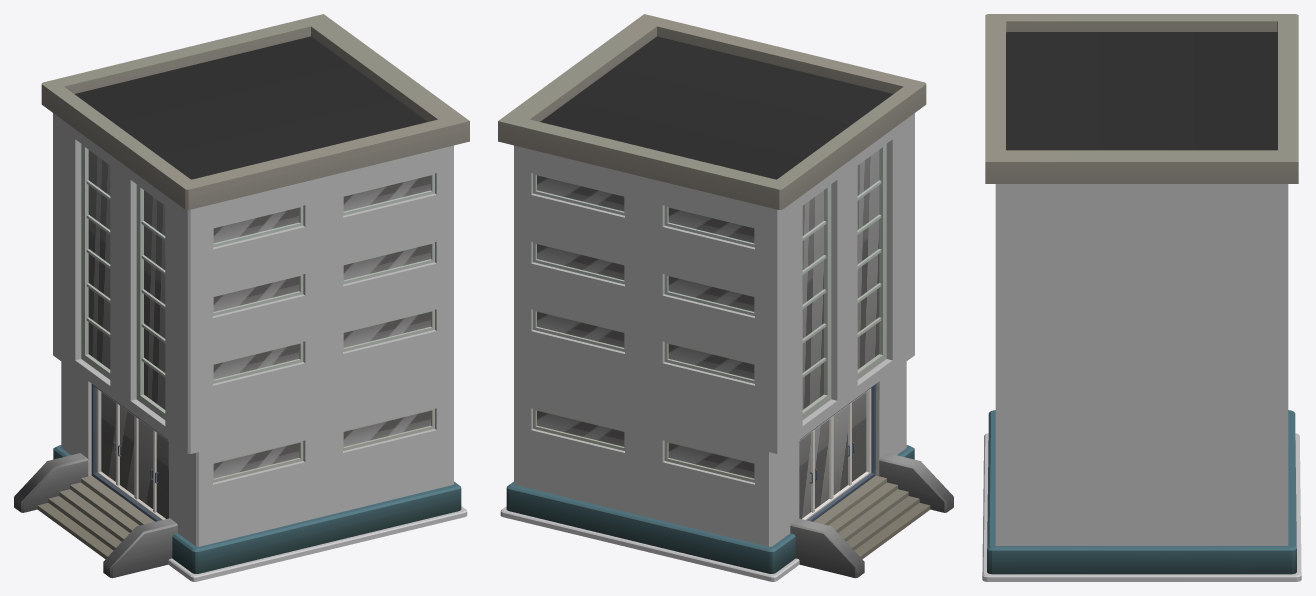
Rendered from Building_26_O_001.fbx.
3 renders of one model, left to right at view 1: azimuth 30°, elevation 25°; view 2: azimuth 150°, elevation 25°; view 3: azimuth 270°, elevation 25°, orthographic. The views are drawn at different scales.
Visible parts, largest first — view 1: Building_26_O.001; view 2: Building_26_O.001; view 3: Building_26_O.001.
Part boxes in pixels (x1,y1,x2,y2): Building_26_O.001: [14, 14, 469, 581]; Building_26_O.001: [498, 14, 953, 581]; Building_26_O.001: [982, 14, 1301, 581].
Bounding box in the file's own units: 923 × 1037 × 712.
